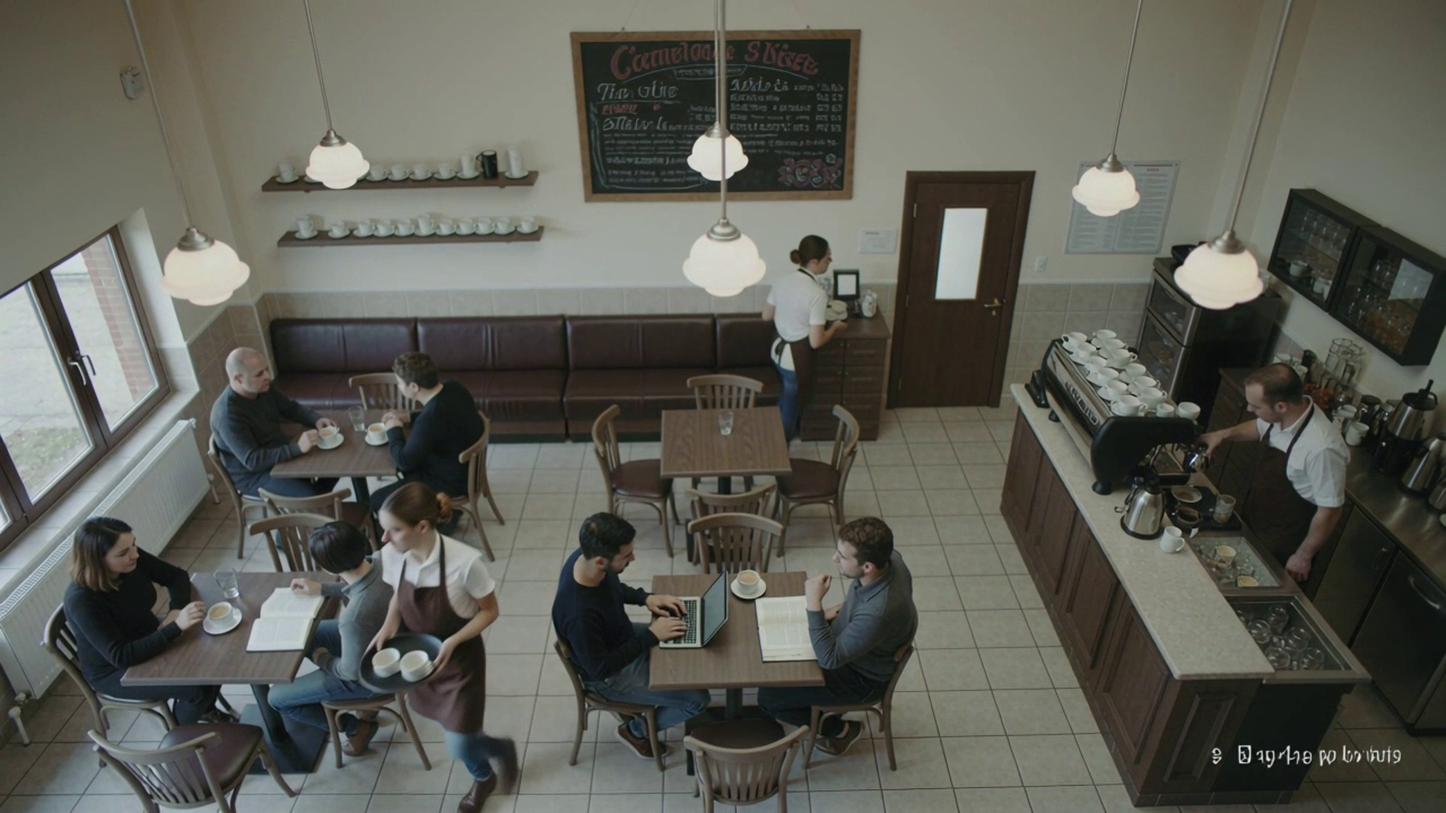client: (52, 519, 171, 690), (826, 518, 923, 726), (304, 520, 372, 754), (558, 510, 638, 702), (392, 350, 489, 489), (199, 341, 279, 505)
employé: (367, 503, 491, 750), (1243, 375, 1361, 559), (778, 228, 840, 412)
machine: (1047, 331, 1185, 506)
tables: (647, 572, 821, 729), (176, 561, 316, 698), (650, 415, 796, 490), (294, 407, 416, 478)
tables_vides: (634, 400, 812, 522)
